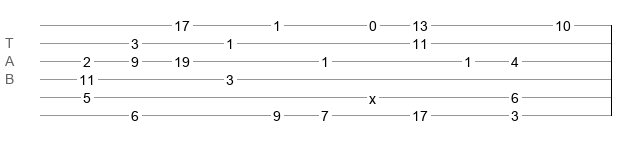0: (369, 18, 377, 28)
1: (226, 36, 234, 46), (273, 18, 281, 28), (321, 54, 329, 64), (464, 54, 472, 64)
10: (555, 18, 571, 28)
11: (79, 72, 95, 82), (412, 36, 428, 46)
13: (412, 18, 428, 28)
17: (174, 18, 190, 28), (412, 108, 428, 118)
19: (174, 54, 190, 64)
2: (83, 54, 91, 64)
3: (131, 36, 139, 46), (226, 72, 234, 82), (511, 108, 519, 118)
4: (511, 54, 519, 64)
5: (83, 90, 91, 100)
6: (131, 108, 139, 118), (511, 90, 519, 100)
7: (321, 108, 329, 118)
9: (131, 54, 139, 64), (273, 108, 281, 118)
x: (369, 91, 376, 99)
